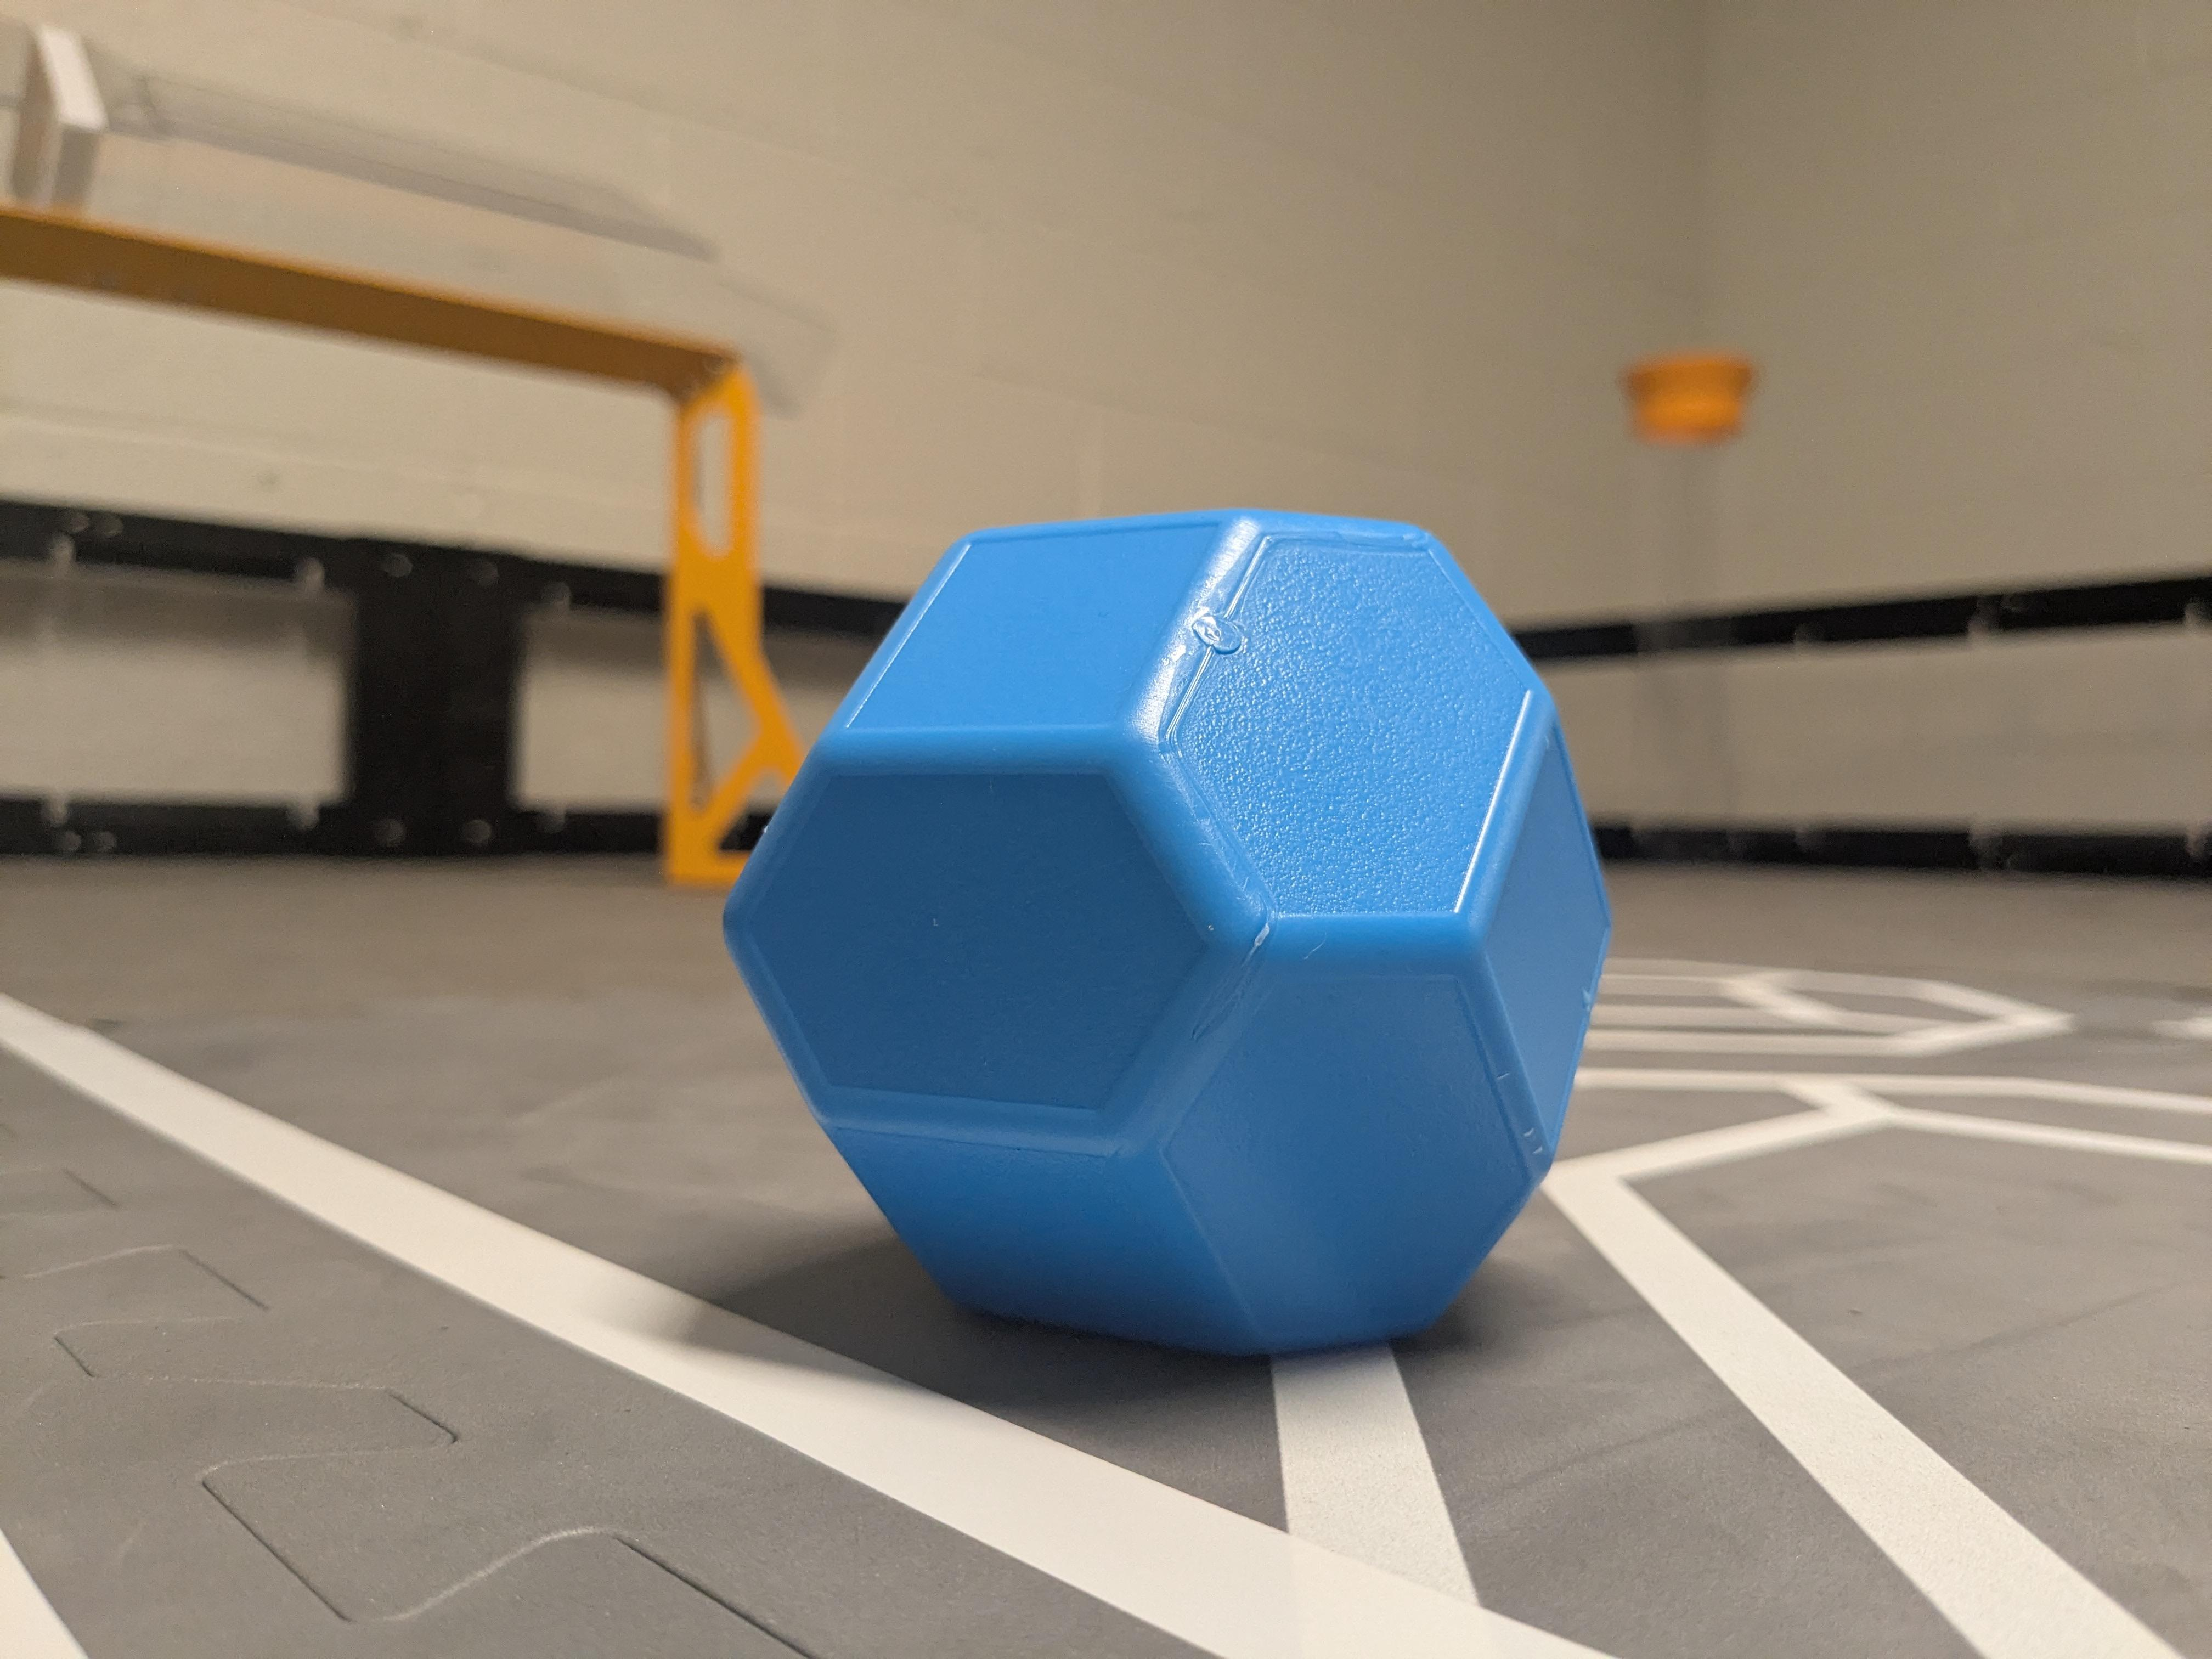Vex-Pieces-BLUE: (725, 511, 1609, 1354)
